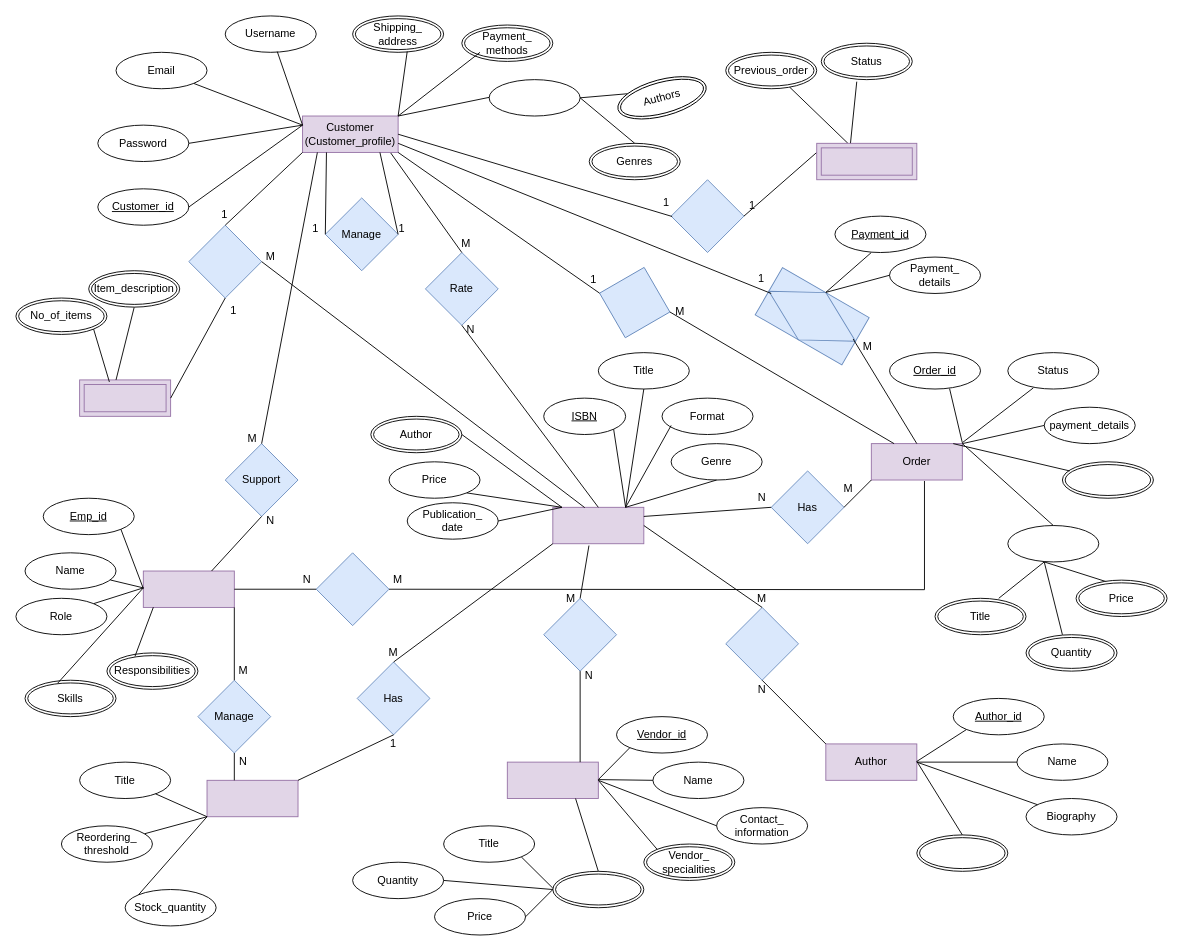
This 1183x951 diagram has some shape labels left out. The box of each missing label's shape, as (x1, y1, x2, y2) in pixels:
Add: (188, 224, 262, 298)
Book: (552, 506, 644, 544)
Books_ supply: (552, 870, 644, 908)
Books_authored: (916, 834, 1008, 871)
Empolyee: (142, 570, 234, 607)
Favourites: (488, 79, 580, 116)
Inventory: (206, 779, 298, 817)
Monitor: (670, 179, 744, 253)
Order_details: (1007, 525, 1099, 562)
Order_notes: (1062, 461, 1153, 498)
Pay: (754, 266, 869, 365)
Place: (589, 257, 679, 347)
Process: (315, 552, 389, 626)
Purchase_history: (816, 142, 917, 180)
Shopping_cart: (79, 379, 171, 416)
Supply: (543, 597, 617, 671)
Vendor: (506, 761, 598, 799)
Writtenby: (725, 607, 799, 680)
